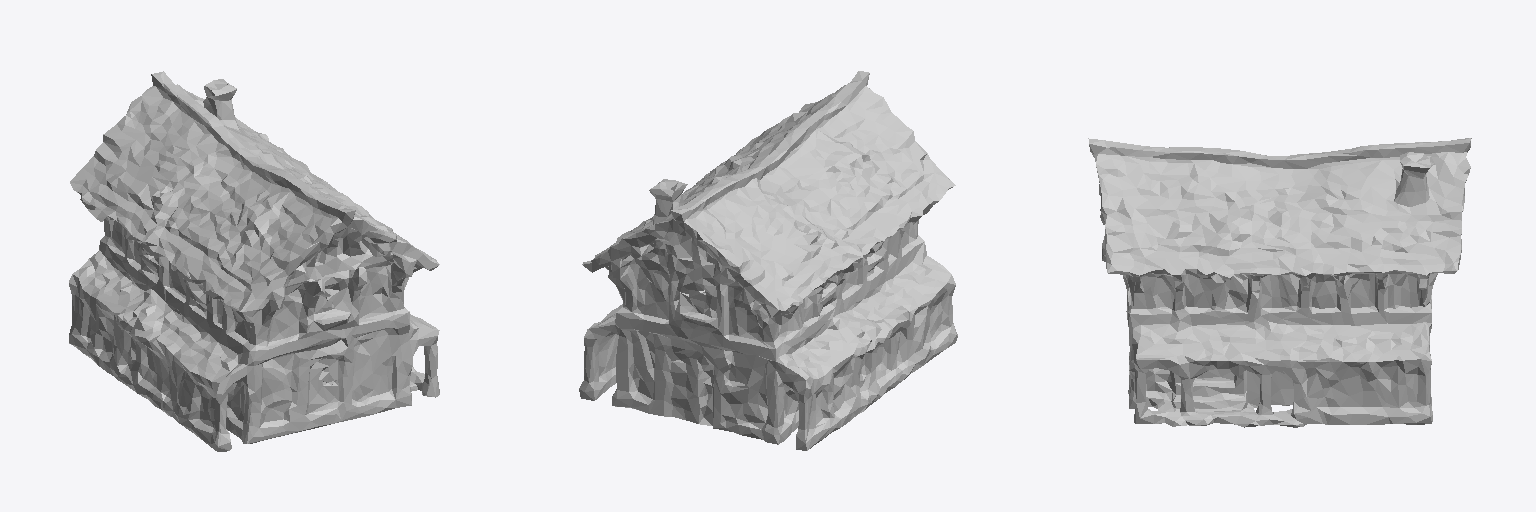
File: house3.obj
3 renders of one model, left to right at view 1: azimuth 30°, elevation 25°; view 2: azimuth 150°, elevation 25°; view 3: azimuth 270°, elevation 25°, orthographic.
Visible parts, largest first — view 1: 村庄上的公会建_[number redacted]_texture; view 2: 村庄上的公会建_[number redacted]_texture; view 3: 村庄上的公会建_[number redacted]_texture.
Part boxes in pixels (x1,y1,x2,y2): 村庄上的公会建_[number redacted]_texture: (69,71,439,451); 村庄上的公会建_[number redacted]_texture: (579,71,957,450); 村庄上的公会建_[number redacted]_texture: (1088,138,1471,427).
Size of the model in its own units: 1.43 by 1.32 by 1.99.